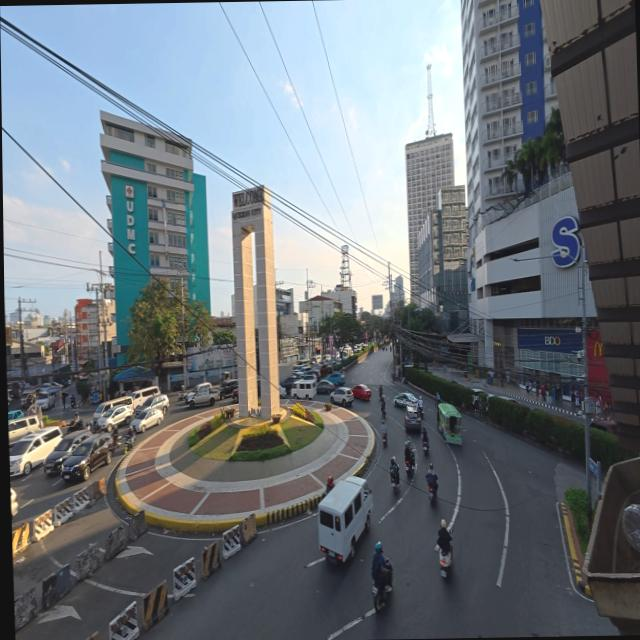car: (58, 432, 114, 480), (9, 430, 65, 476), (405, 408, 425, 435), (330, 385, 354, 405), (10, 488, 19, 530), (352, 384, 372, 402)
trucks: (182, 381, 221, 404)
